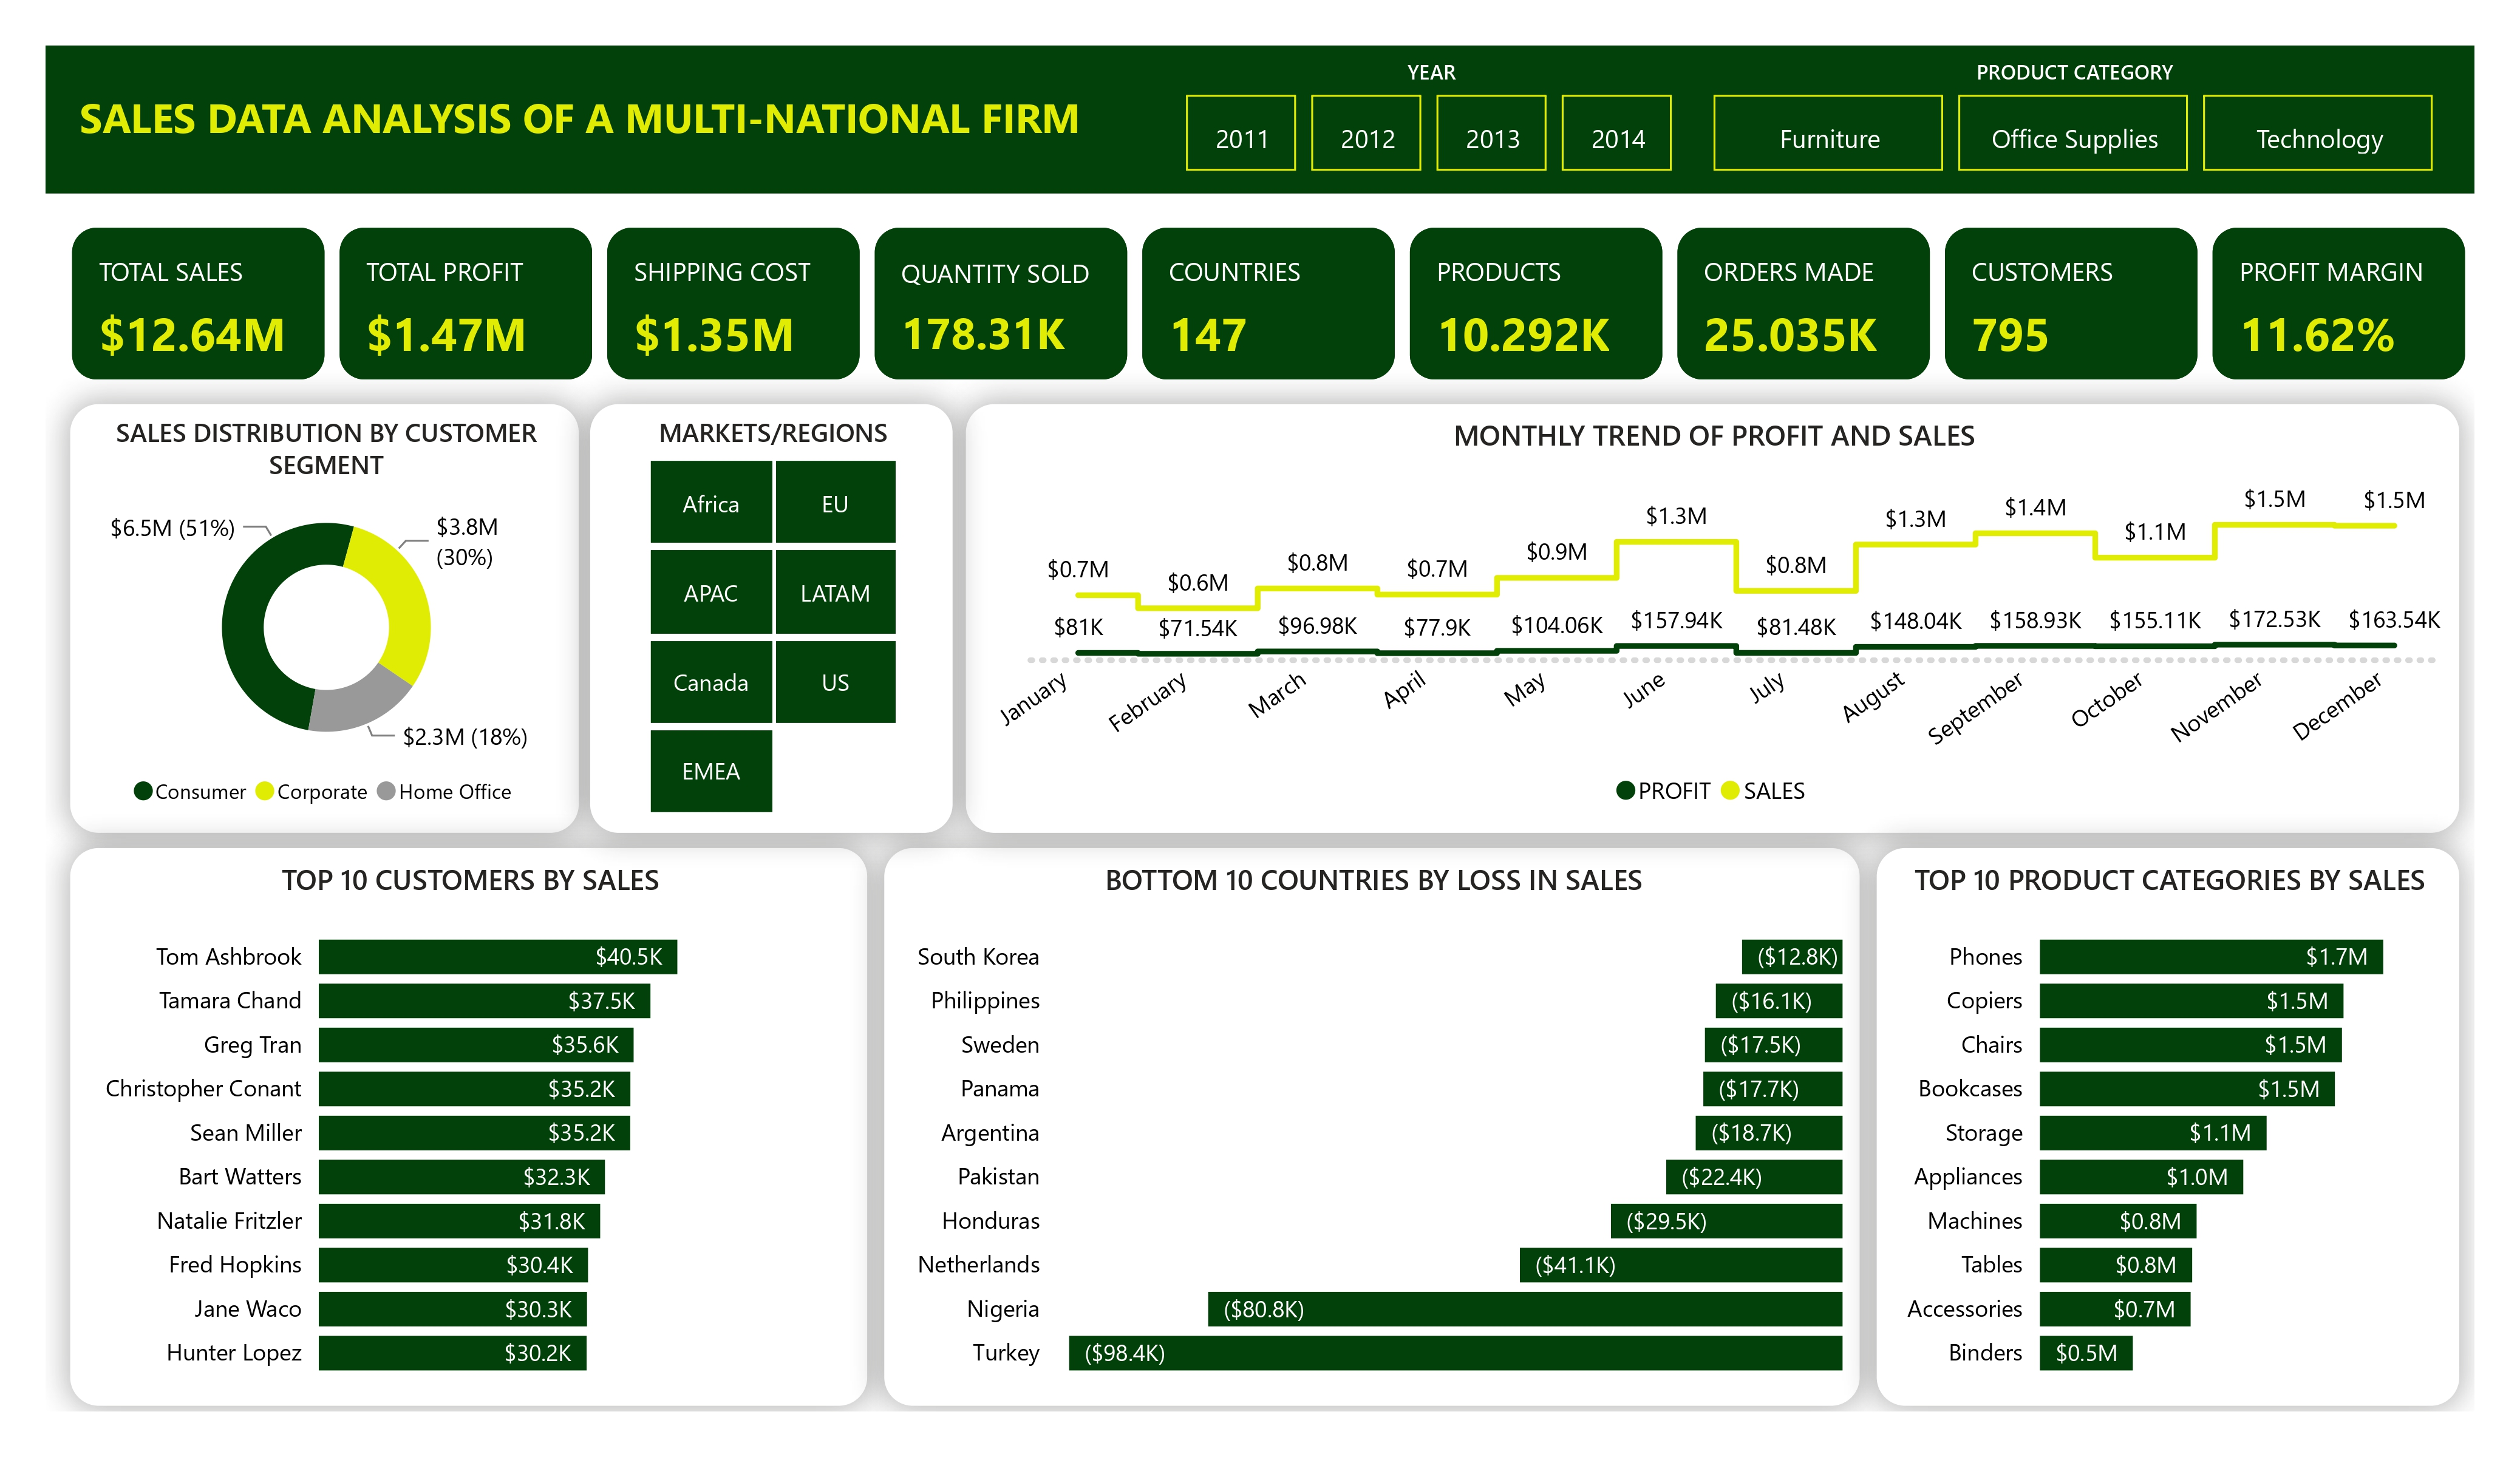

This screenshot's page, from the dashboard's own definition file:
{"tool":"powerbi","page":{"name":"Page 1","canvas":[1280,720],"ordinal":0},"visuals":[{"type":"shape","box":[0,0,1280,77.8],"z":0},{"type":"textbox","box":[13,18,562,41],"z":1000},{"type":"cardVisual","fields":{"Data":["SALES_TABLE.SALES","SALES_TABLE.PROFIT","SALES_TABLE.SHIPPING COST","SALES_TABLE.QTY","SALES_TABLE.COUNTRY ID","SALES_TABLE.PRODUCT ID","SALES_TABLE.ORDER ID","SALES_TABLE.CUSTOMER ID","SALES_TABLE.Profit Margin"]},"box":[9,91,1271,90],"z":2000},{"type":"advancedSlicerVisual","title":"YEAR","fields":{"Values":["ORDERS_TABLE.ORDER DATE.Variation.Date Hierarchy.Year"]},"box":[596,6,269,65],"z":3000},{"type":"donutChart","title":"SALES DISTRIBUTION BY CUSTOMER SEGMENT","fields":{"Category":["CUSTOMERS_TABLE.SEGMENT"],"Y":["SALES_TABLE.SALES"]},"box":[13.3,188.9,267.8,226.1],"z":4000},{"type":"barChart","title":"TOP 10 CUSTOMERS BY SALES","fields":{"Category":["CUSTOMERS_TABLE.CUSTOMER NAME"],"Y":["SALES_TABLE.SALES"]},"box":[13,423,420,294],"z":5000},{"type":"barChart","title":"BOTTOM 10 COUNTRIES BY LOSS IN SALES","fields":{"Category":["LOCATION_TABLE.COUNTRY"],"Y":["SALES_TABLE.PROFIT"]},"box":[442,423,514,294],"z":6000},{"type":"lineChart","title":"MONTHLY TREND OF PROFIT AND SALES","fields":{"Category":["ORDERS_TABLE.ORDER DATE.Variation.Date Hierarchy.Month"],"Y":["SALES_TABLE.PROFIT","SALES_TABLE.SALES"]},"box":[485,188.9,787.4,226.1],"z":7000},{"type":"barChart","title":"TOP 10 PRODUCT CATEGORIES BY SALES","fields":{"Y":["SALES_TABLE.SALES"],"Category":["PRODUCTS_TABLE.PRODUCT SUB-CATEGORY"]},"box":[965,423,307,294],"z":8000},{"type":"advancedSlicerVisual","fields":{"Values":["PRODUCTS_TABLE.PRODUCT CATEGORY"]},"box":[874,6,391,65],"z":9000},{"type":"slicer","title":"MARKETS/REGIONS","fields":{"Values":["LOCATION_TABLE.MARKET"]},"box":[287.3,188.9,190.6,226.1],"z":10000}]}

Visuals, with their boxes on the page's 1280x720 design canvas (x1, y1, x2, y2). These are canvas units, not pixel positions in the 2520x1457 screenshot, which may show the page scaled, cropped or inside an application window:
shape: (0, 0, 1280, 78)
textbox: (13, 18, 575, 59)
cardVisual - SALES_TABLE.SALES x SALES_TABLE.PROFIT: (9, 91, 1280, 181)
"YEAR" advancedSlicerVisual: (596, 6, 865, 71)
"SALES DISTRIBUTION BY CUSTOMER SEGMENT" donutChart: (13, 189, 281, 415)
"TOP 10 CUSTOMERS BY SALES" barChart: (13, 423, 433, 717)
"BOTTOM 10 COUNTRIES BY LOSS IN SALES" barChart: (442, 423, 956, 717)
"MONTHLY TREND OF PROFIT AND SALES" lineChart: (485, 189, 1272, 415)
"TOP 10 PRODUCT CATEGORIES BY SALES" barChart: (965, 423, 1272, 717)
advancedSlicerVisual - PRODUCTS_TABLE.PRODUCT CATEGORY: (874, 6, 1265, 71)
"MARKETS/REGIONS" slicer: (287, 189, 478, 415)
